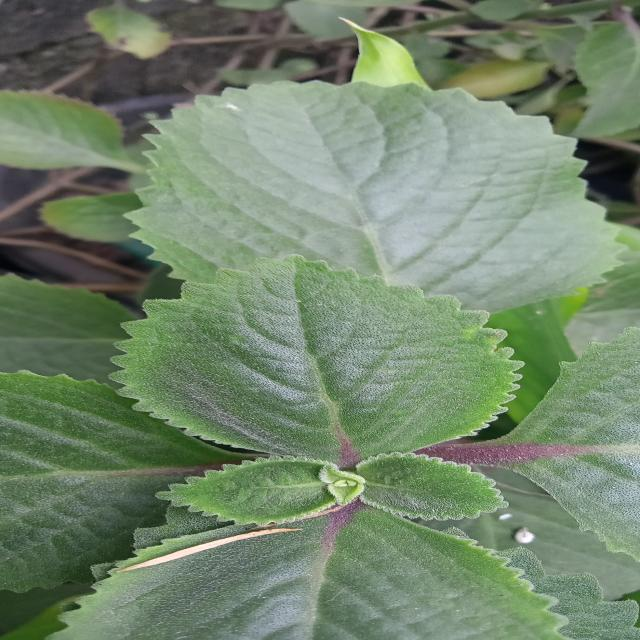Oregano: (45, 218, 612, 570)
